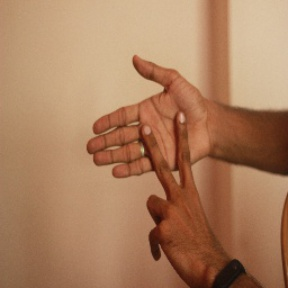N: (74, 47, 227, 234)
